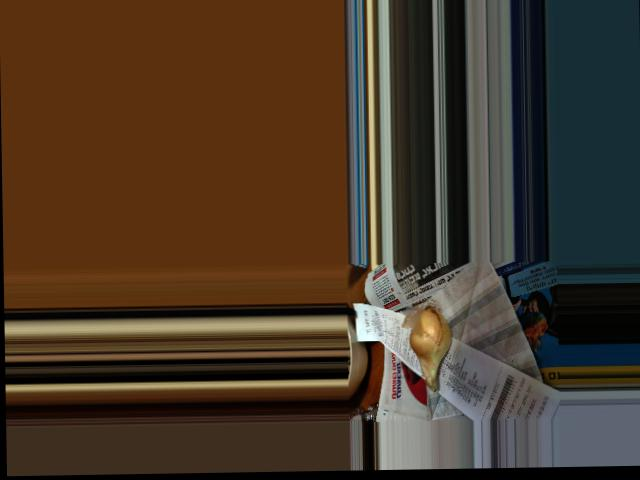onion: (412, 308, 454, 382)
